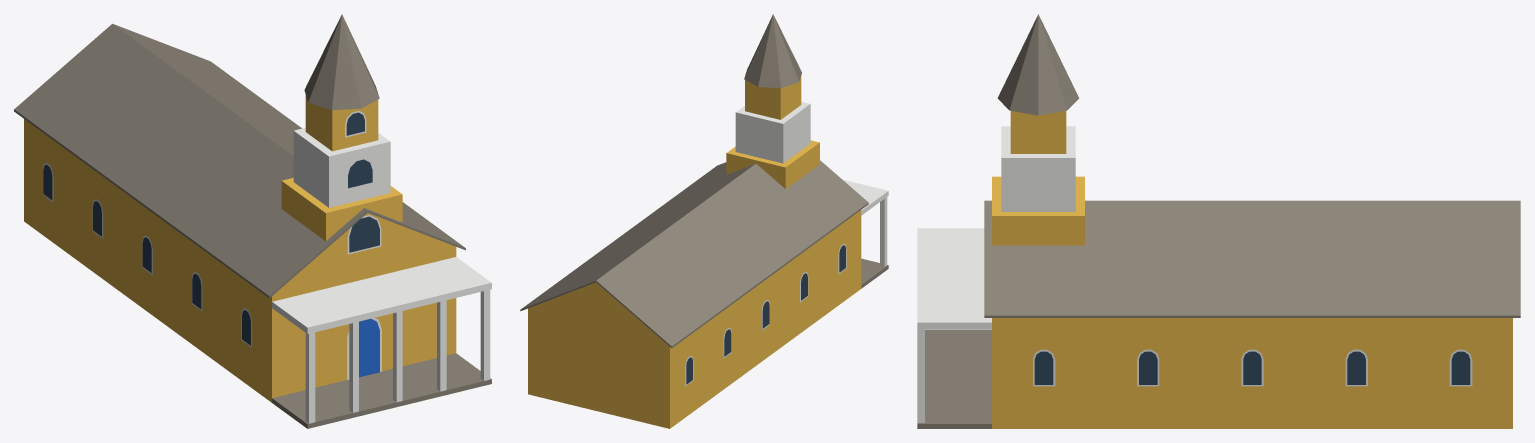
The model's file is eglise_chiloe.glb.
3 views of the same model, side by side, from view 1: azimuth 30°, elevation 25°; view 2: azimuth 150°, elevation 25°; view 3: azimuth 270°, elevation 25° (orthographic). The views are drawn at different scales.
Parts seen in each view (by area): view 1: eglise_chiloe; view 2: eglise_chiloe; view 3: eglise_chiloe.
Part boxes in pixels (box(x1,y1,x2,y2)): eglise_chiloe: box(14, 14, 491, 428); eglise_chiloe: box(520, 14, 888, 428); eglise_chiloe: box(917, 14, 1520, 428).
Size of the model in its own units: 12.8 by 21.8 by 32.4.
Materials: 1 (1 with a texture image).
